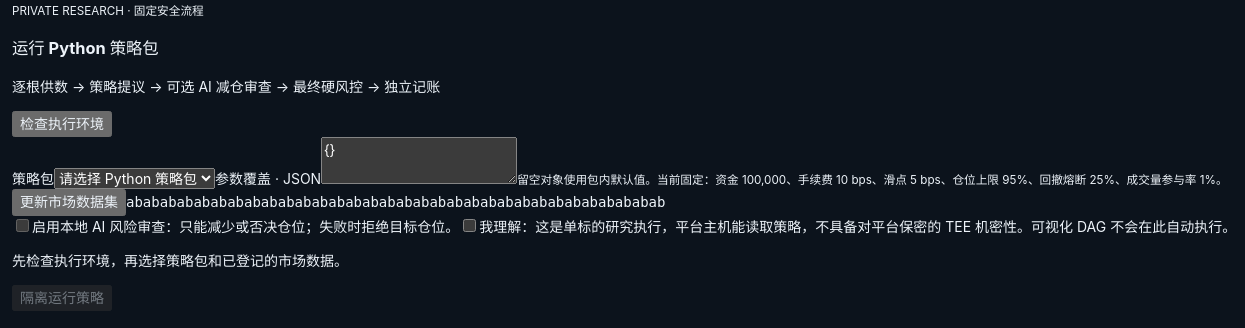
private execution boundaries › rejects malformed parameters before sending them and blocks unavailable environments
Select "Private strategy v1.0" in the dropdown named "执行策略包" at (134, 178), box x1=54 y1=168 x2=215 y2=189
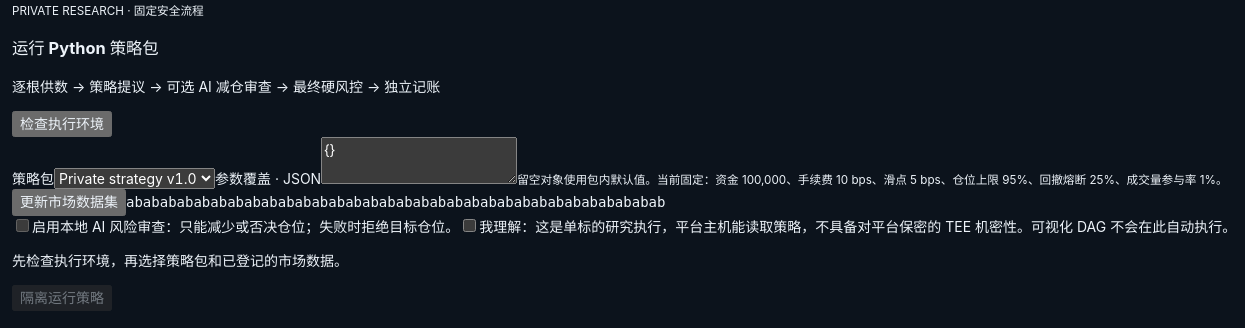
Click the checkbox labelled "我理解：这是单标的研究执行，平台主机能读取策略，不具备对平台保密的 TEE 机密性。可视化 DAG 不会在此自动执行。" at (470, 225), box x1=463 y1=219 x2=476 y2=232
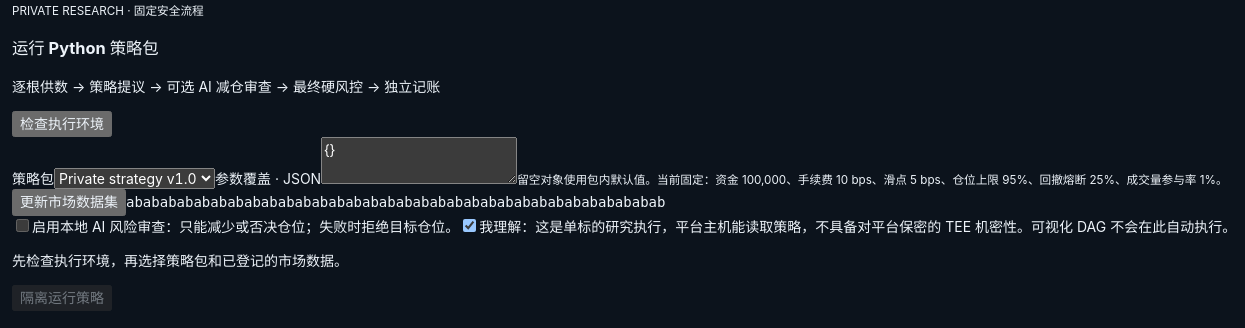
Click the button "检查执行环境" at (62, 124), box x1=12 y1=111 x2=112 y2=137
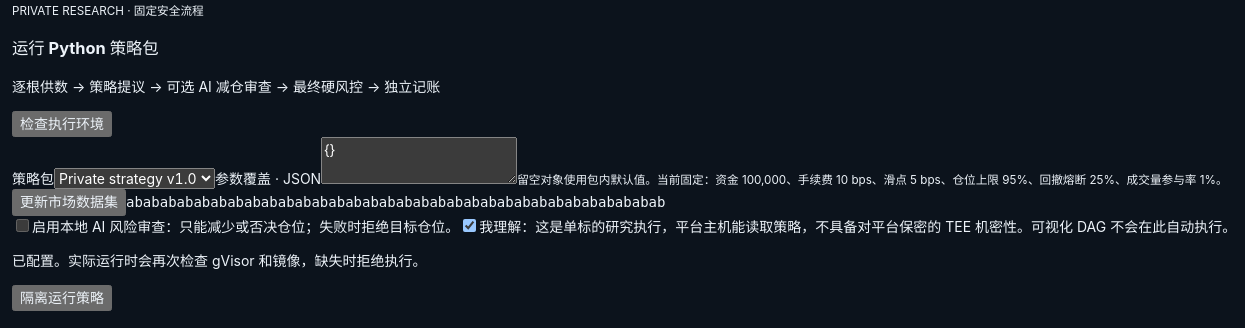
Expected: the text "已配置。实际运行时会再次检查 gVisor 和镜像，缺失时拒绝执行。" is shown, x1=12 y1=252 x2=427 y2=269
Replace the text in the text box named "执行参数覆盖" with "[]" at (419, 161), box x1=321 y1=137 x2=517 y2=184
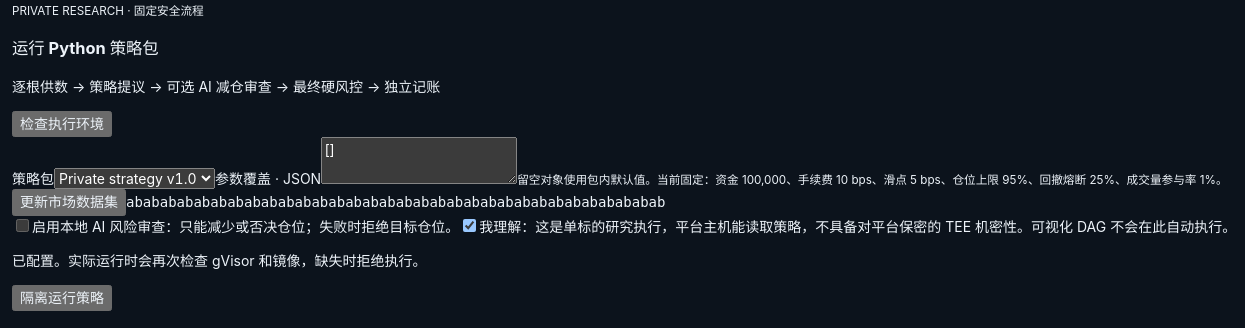
Click the button "隔离运行策略" at (62, 298), box x1=12 y1=285 x2=112 y2=312
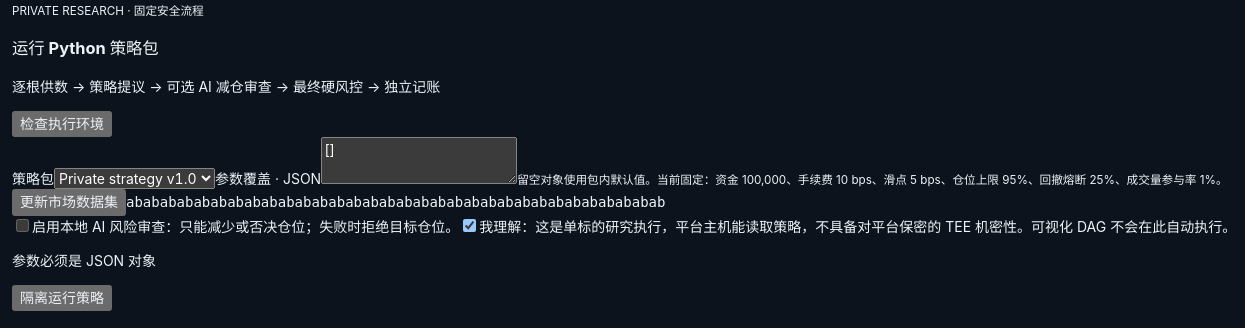
Expected: the text "参数必须是 JSON 对象" is shown, x1=12 y1=252 x2=156 y2=269
Click the button "检查执行环境" at (62, 124), box x1=12 y1=111 x2=112 y2=137
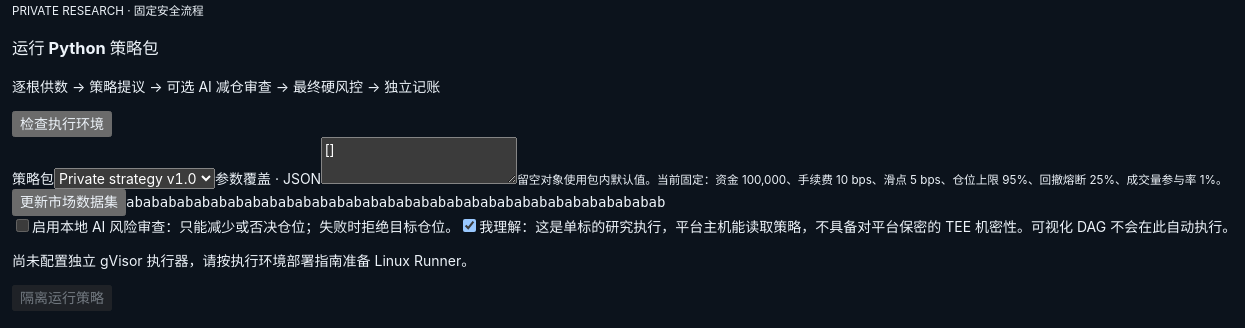
Expected: the button "隔离运行策略" is disabled, x1=12 y1=285 x2=112 y2=312
Expected: the text "尚未配置独立 gVisor 执行器，请按执行环境部署指南准备 Linux Runner。" is shown, x1=12 y1=252 x2=475 y2=269
